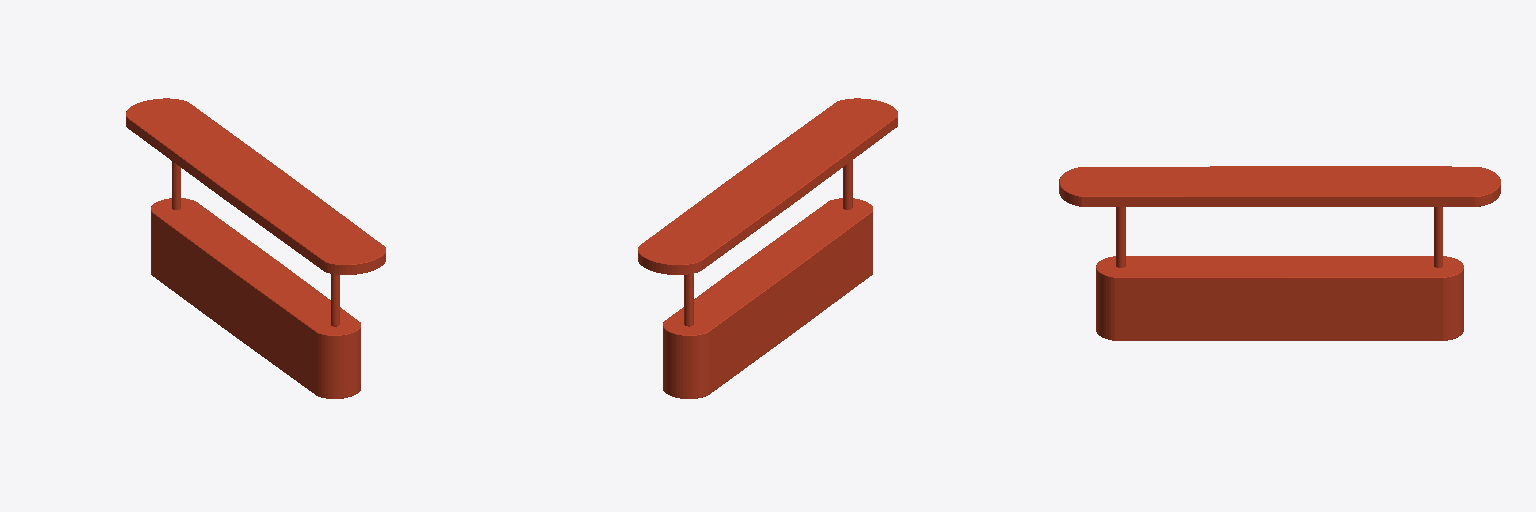
The model's file is table3.obj.
The picture shows the model from 3 angles: view 1: azimuth 30°, elevation 25°; view 2: azimuth 150°, elevation 25°; view 3: azimuth 270°, elevation 25°; orthographic projection.
Parts seen in each view (by area): view 1: Cylinder; view 2: Cylinder; view 3: Cylinder.
Boxes of the visible parts, x1=… form: Cylinder: x1=126, y1=98, x2=385, y2=398; Cylinder: x1=638, y1=98, x2=897, y2=398; Cylinder: x1=1059, y1=166, x2=1500, y2=340.
Bounding box in the file's own units: 0.311 × 0.7 × 1.88.